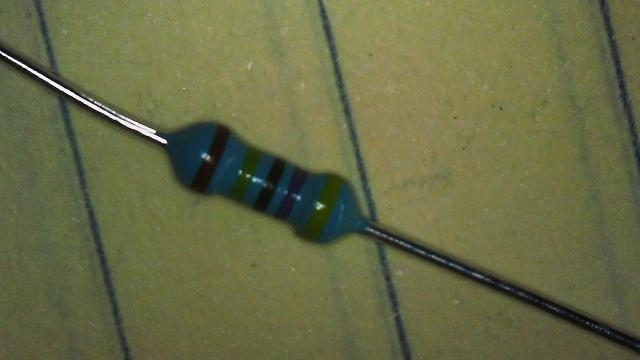black: (253, 158, 286, 211)
brown: (190, 126, 230, 192)
resistor: (158, 101, 369, 268)
violet: (276, 168, 307, 219)
yellow: (300, 174, 344, 240), (228, 148, 262, 202)
